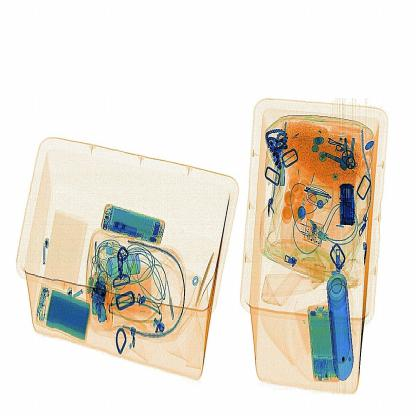scissors: (336, 177, 361, 227)
